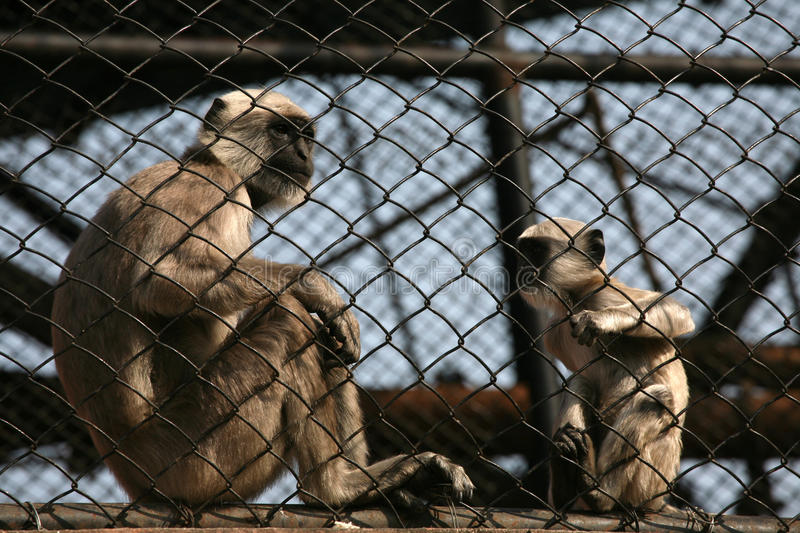monkey: (55, 85, 444, 502), (486, 223, 686, 533)
